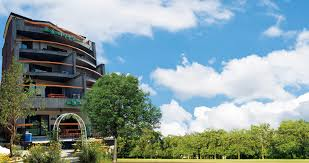forest: (160, 129, 305, 163)
house: (7, 17, 102, 151)
sky: (130, 6, 299, 122)
tree: (90, 78, 160, 158)
